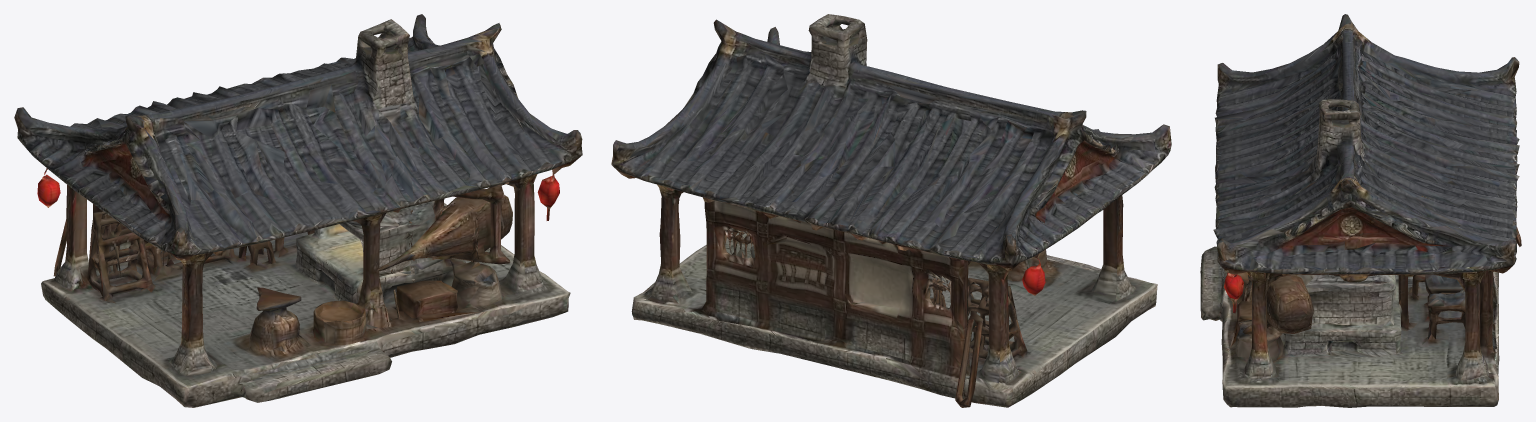
The model's file is ferraria.glb.
3 views of the same model, side by side, from view 1: azimuth 30°, elevation 25°; view 2: azimuth 150°, elevation 25°; view 3: azimuth 270°, elevation 25° (orthographic). The views are drawn at different scales.
Parts seen in each view (by area): view 1: ferraria; view 2: ferraria; view 3: ferraria.
Boxes of the visible parts, left/top/right/bottom form: ferraria: left=14, top=14, right=582, bottom=407; ferraria: left=611, top=14, right=1171, bottom=407; ferraria: left=1200, top=14, right=1521, bottom=407.
Bounding box in the file's own units: 8.03 × 5 × 5.84.
1 material, 1 textured.
